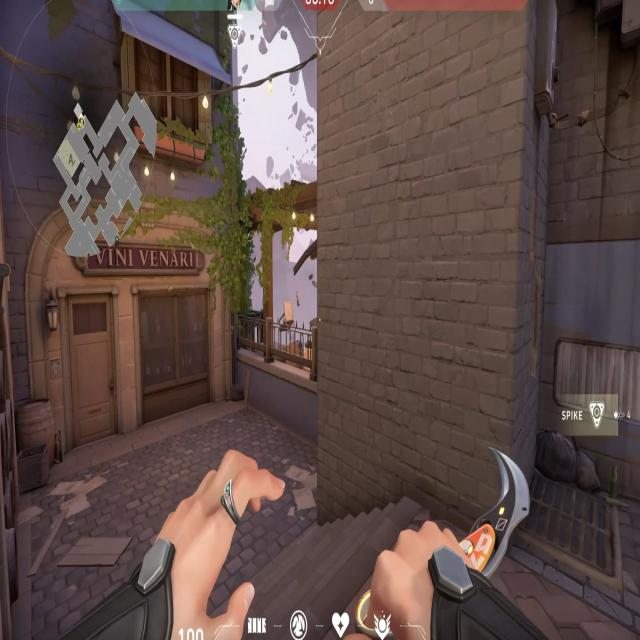Wine: (0, 179, 316, 565)
